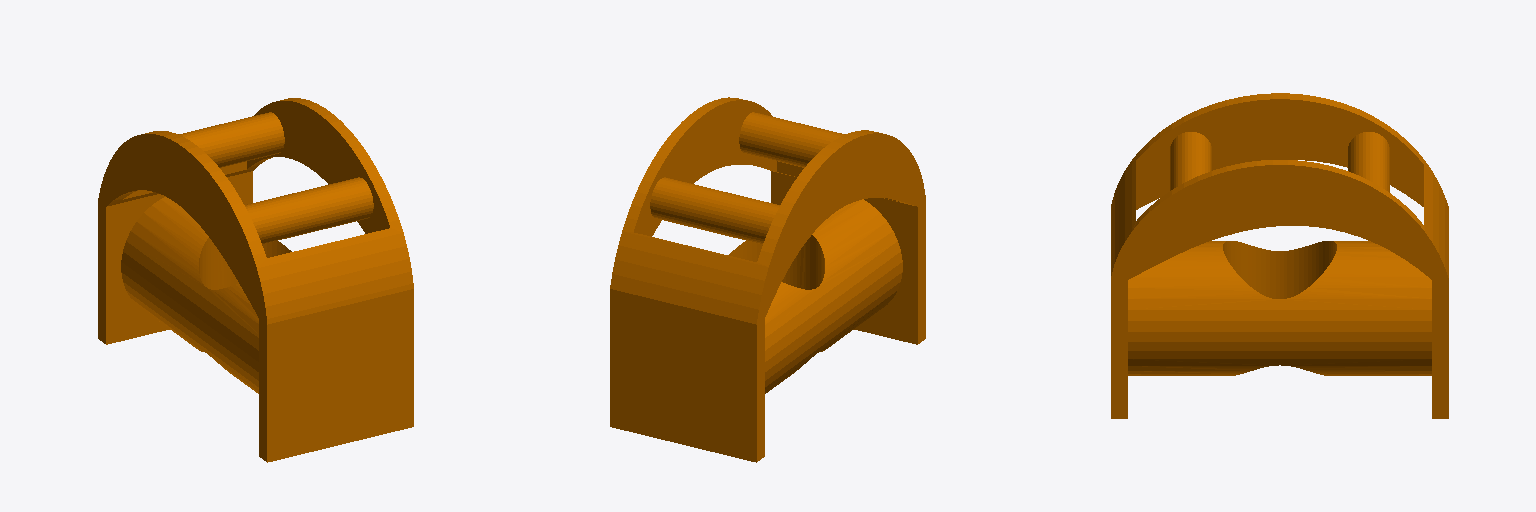
File: r_steer.obj
3 renders of one model, left to right at view 1: azimuth 30°, elevation 25°; view 2: azimuth 150°, elevation 25°; view 3: azimuth 270°, elevation 25°, orthographic.
Parts seen in each view (by area): view 1: viper_R_steer; view 2: viper_R_steer; view 3: viper_R_steer.
Part boxes in pixels (bbox=[...]): viper_R_steer: bbox=[98, 98, 413, 462]; viper_R_steer: bbox=[610, 97, 925, 462]; viper_R_steer: bbox=[1111, 93, 1448, 418].
Size of the model in its own units: 0.1 by 0.1652 by 0.2.